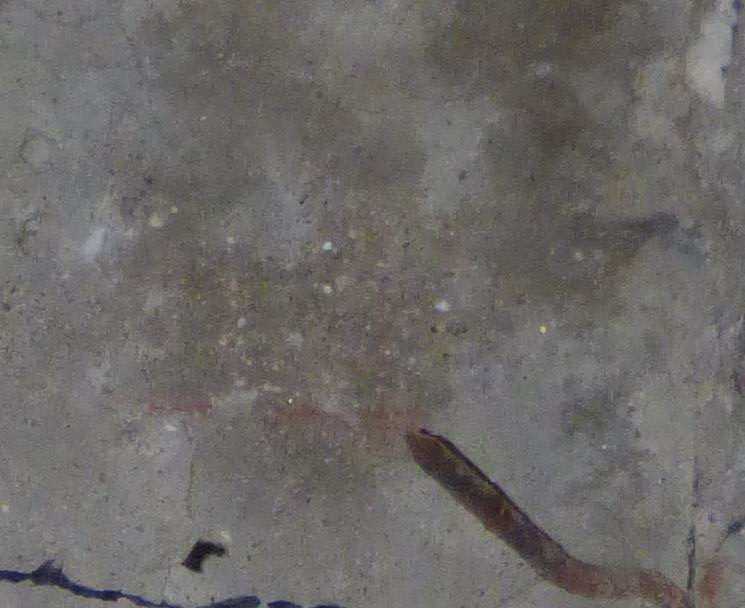Crack: (401, 428, 696, 608), (1, 559, 184, 608)
Spalling: (196, 594, 342, 608), (181, 537, 226, 573)
